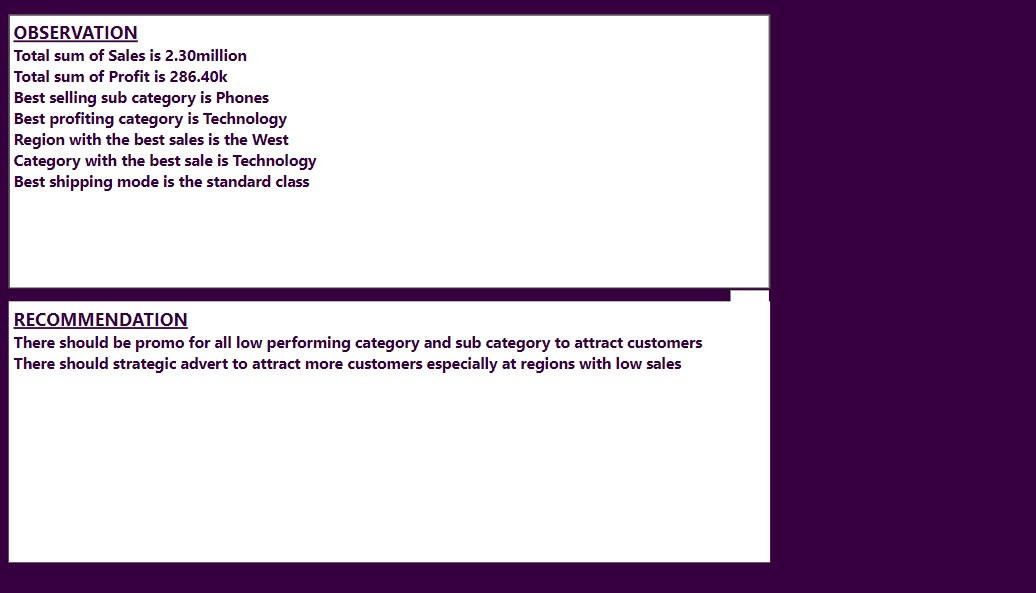

This screenshot's page, from the dashboard's own definition file:
{"tool":"powerbi","page":{"name":"Page 2","canvas":[1280,720],"ordinal":1},"visuals":[{"type":"textbox","box":[10,15,783.3,281.7],"z":0},{"type":"textbox","box":[10,310,783.3,268.3],"z":1000}]}

Visuals, with their boxes in screenshot pixels (x1, y1, x2, y2), scaled from the page's 1280x720 canvas onto the 1036x593 screenshot:
textbox: (8,12,642,244)
textbox: (8,255,642,476)
